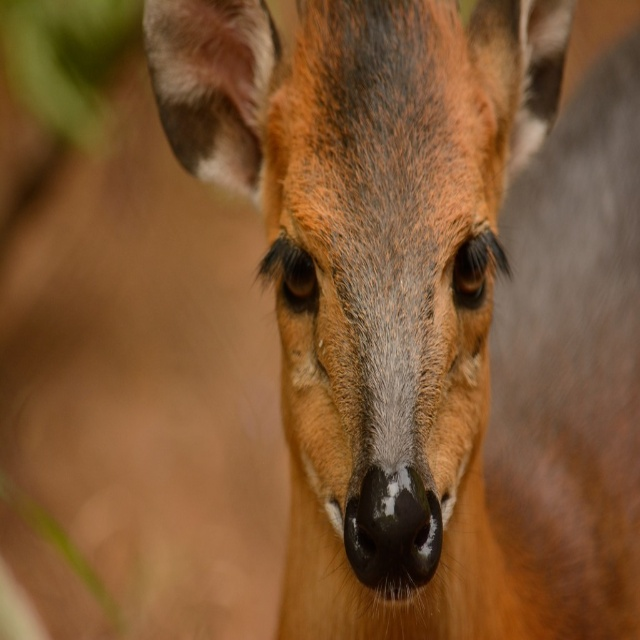Deer: (141, 0, 640, 639)
